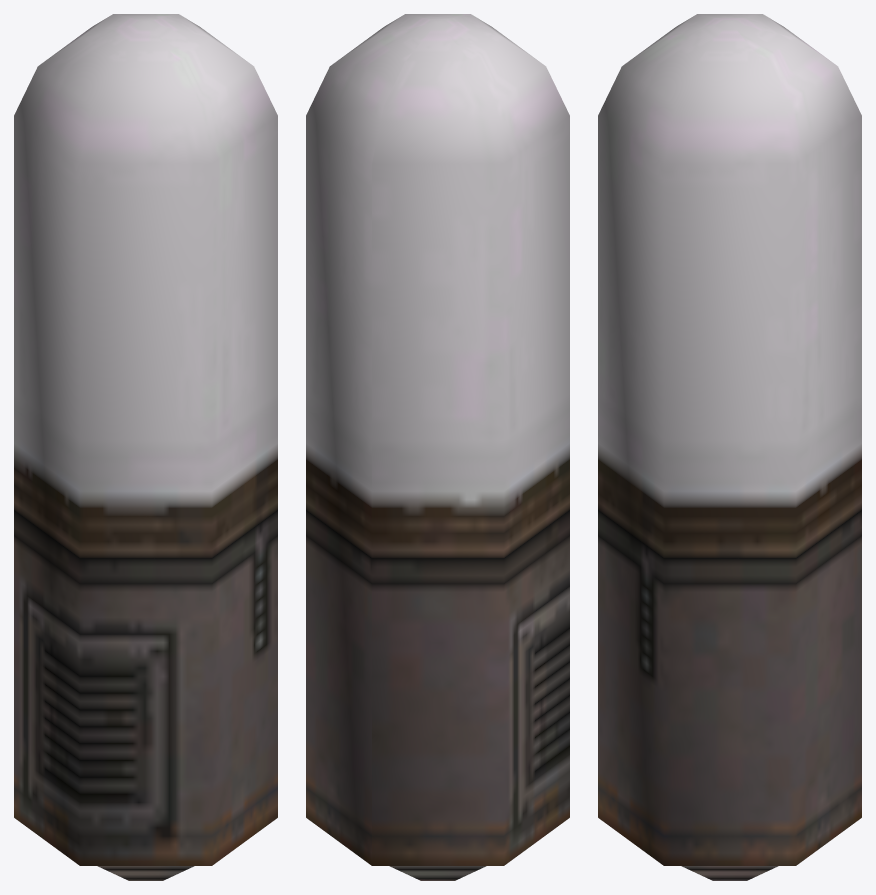
File: eqp_comp_chassis_deed_l2.fbx
3 renders of one model, left to right at view 1: azimuth 30°, elevation 25°; view 2: azimuth 150°, elevation 25°; view 3: azimuth 270°, elevation 25°, orthographic.
Visible parts, largest first — view 1: mesh_node; view 2: mesh_node; view 3: mesh_node.
Part boxes in pixels (left/top/right/bottom): mesh_node: left=14, top=14, right=277, bottom=880; mesh_node: left=306, top=14, right=569, bottom=880; mesh_node: left=598, top=14, right=861, bottom=880.
Size of the model in its own units: 0.0697 by 0.2851 by 0.0805.
